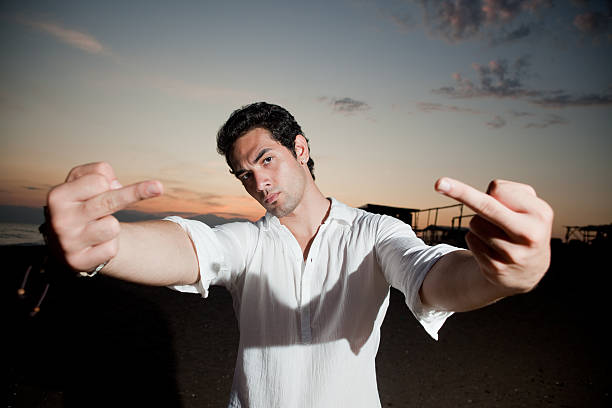insulting_gesture: (434, 174, 554, 297), (41, 163, 166, 271)
